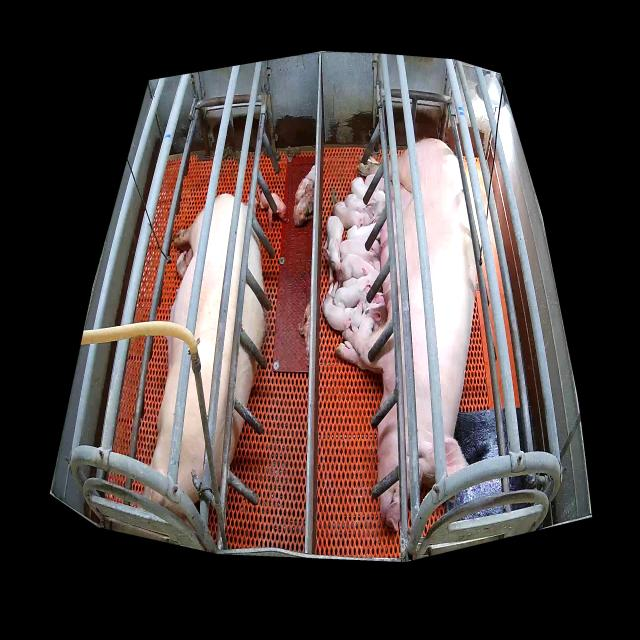pig: (333, 139, 482, 532), (141, 194, 266, 533), (324, 283, 364, 331), (334, 268, 375, 312), (337, 253, 379, 289), (324, 216, 344, 285), (344, 194, 386, 223), (259, 192, 290, 231), (335, 200, 374, 231), (359, 302, 388, 338), (340, 239, 381, 263), (294, 163, 315, 208), (294, 182, 314, 226), (352, 177, 386, 202), (298, 302, 310, 368), (347, 223, 381, 242), (176, 248, 194, 281), (364, 174, 385, 190)
